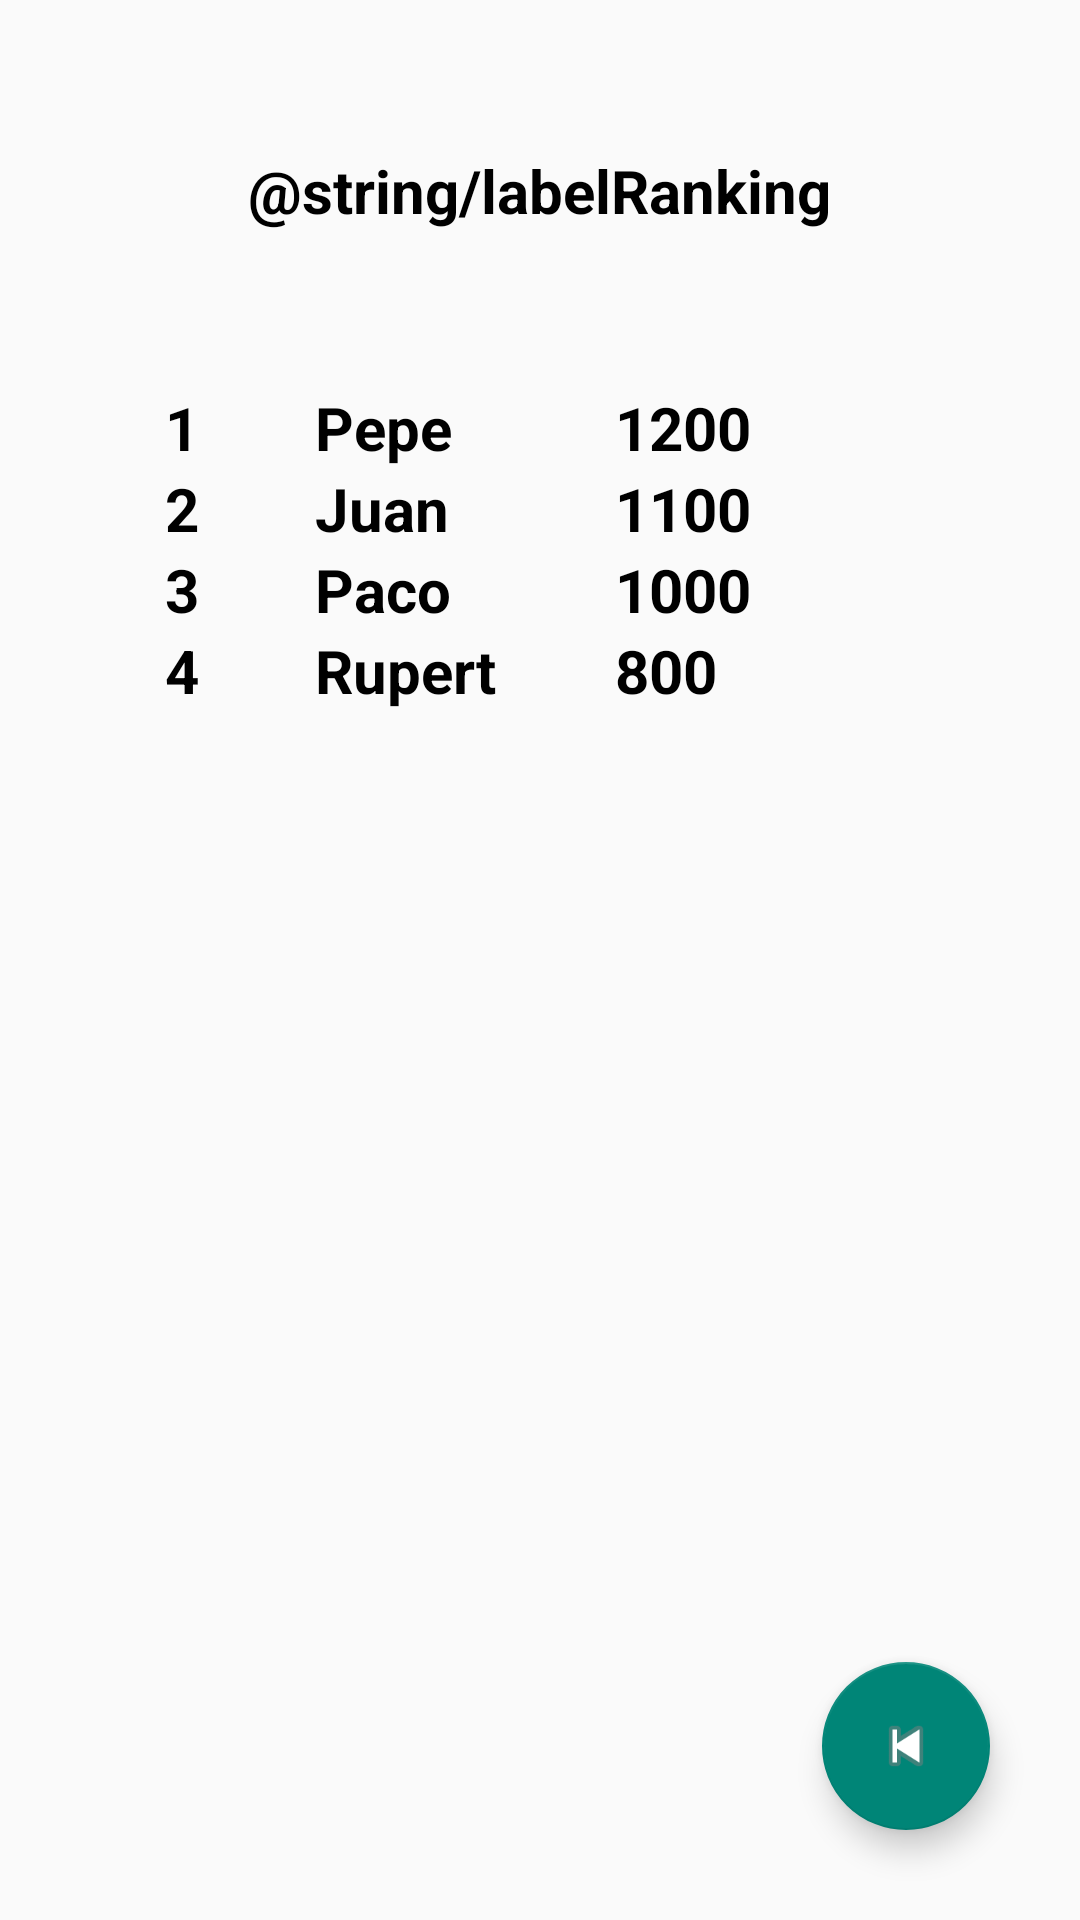

Named icons in this screenshot (1080px×1920px) and their centers, (x=x, y=y):
previous: (x=906, y=1746)
